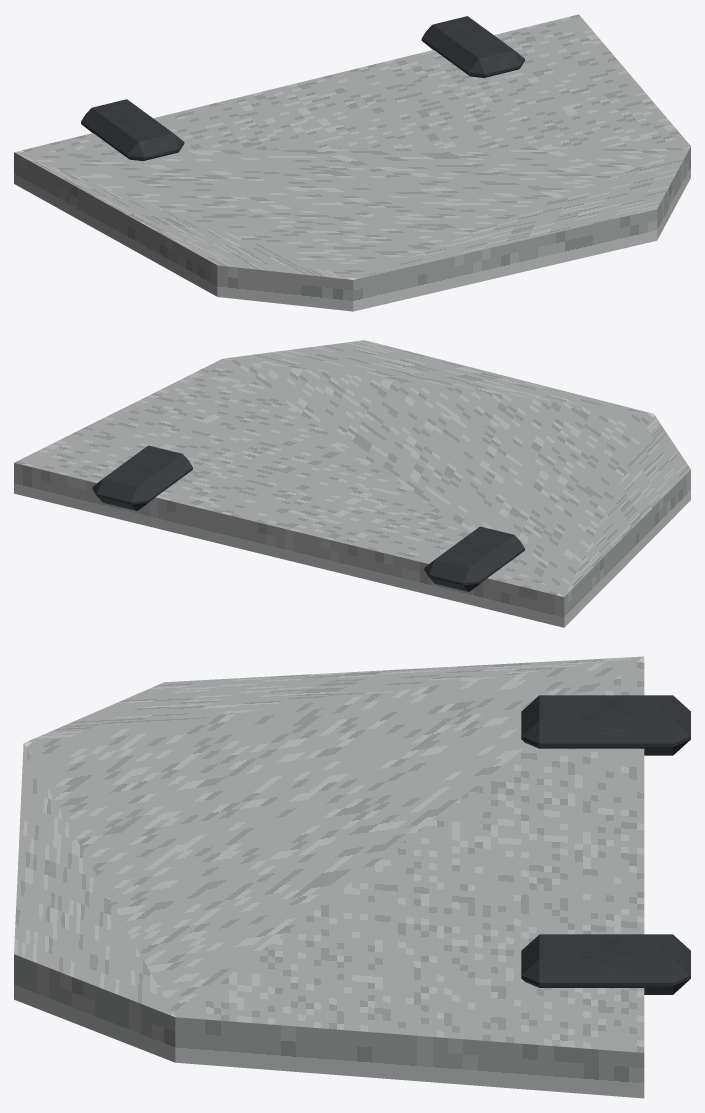
Rendered from nape_protector.glb.
3 views of the same model, one above another, from view 1: azimuth 30°, elevation 25°; view 2: azimuth 150°, elevation 25°; view 3: azimuth 270°, elevation 25° (orthographic). The views are drawn at different scales.
Parts seen in each view (by area): view 1: block_curved protective guard, block_nape helmet attachment (×2); view 2: block_curved protective guard, block_nape helmet attachment (×2); view 3: block_curved protective guard, block_nape helmet attachment (×2).
Boxes of the visible parts, box(x1,y1,x2,y2) form: block_curved protective guard: box(14, 14, 690, 311); block_nape helmet attachment (×2): box(81, 16, 524, 160); block_curved protective guard: box(14, 340, 690, 627); block_nape helmet attachment (×2): box(92, 445, 524, 591); block_curved protective guard: box(14, 656, 644, 1098); block_nape helmet attachment (×2): box(521, 695, 690, 994).
Bounding box in the file's own units: 0.1445 × 0.0116 × 0.1043.
Materials: 1 (1 with a texture image).
